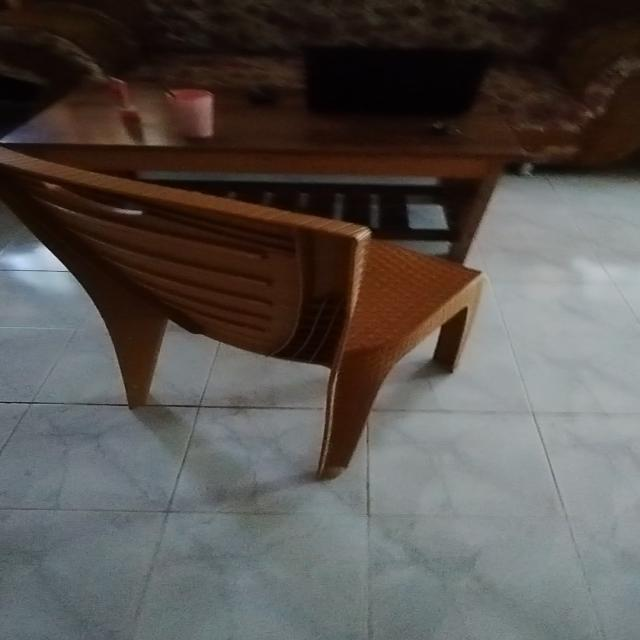chair: (0, 146, 507, 506)
